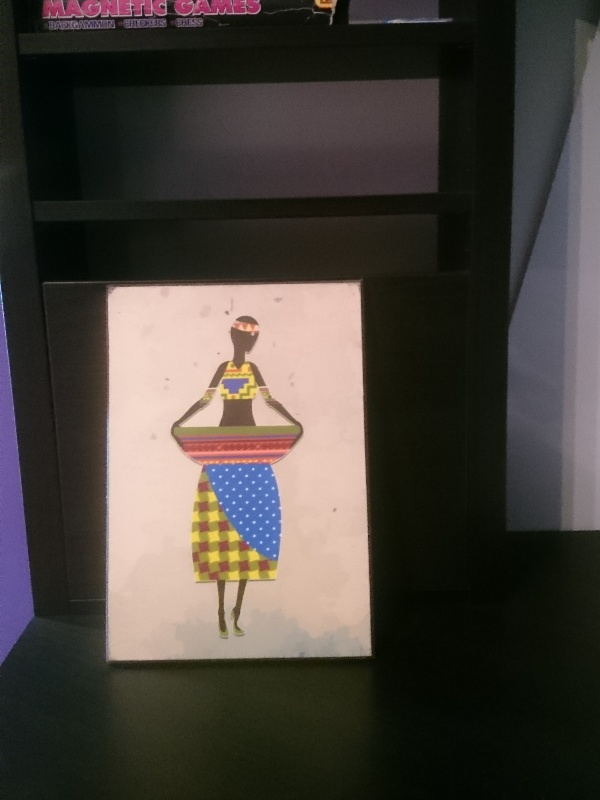my image: (109, 288, 363, 660)
